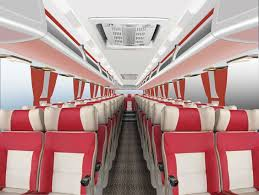seat: (42, 105, 97, 194)
